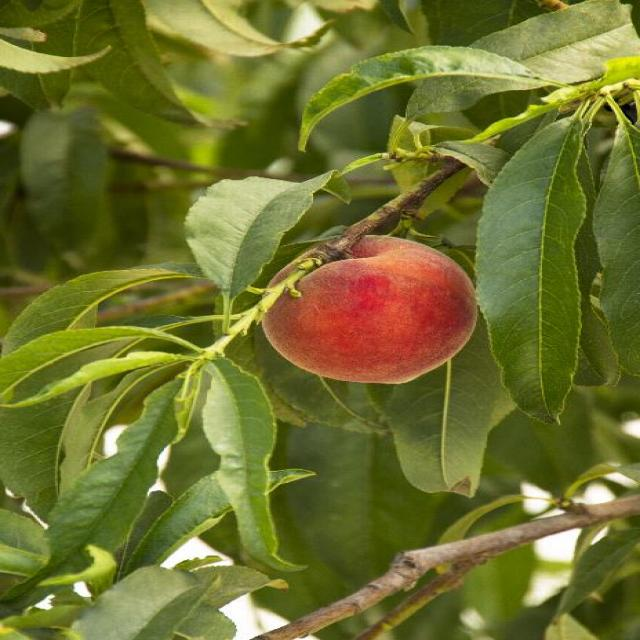peach: (0, 0, 640, 595)
